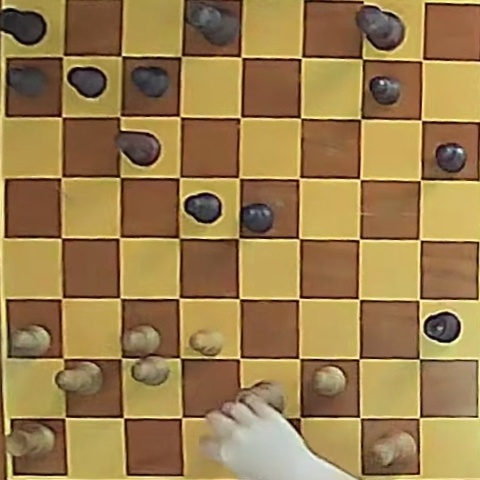black-king: (356, 6, 404, 51)
black-knight: (116, 132, 160, 167)
black-pawn: (67, 67, 107, 99), (7, 66, 48, 97), (131, 66, 169, 98), (184, 193, 222, 224), (241, 203, 273, 233), (435, 143, 467, 173), (370, 76, 401, 105)
black-queen: (185, 2, 239, 46)
black-rook: (0, 7, 47, 46), (423, 312, 461, 344)
white-bishop: (57, 361, 102, 395)
white-king: (370, 429, 417, 469)
white-pawn: (11, 324, 51, 356), (132, 356, 170, 386), (122, 325, 160, 355), (313, 366, 346, 397), (190, 329, 224, 355)
white-queen: (235, 381, 284, 415)
white-rook: (7, 421, 56, 459)
